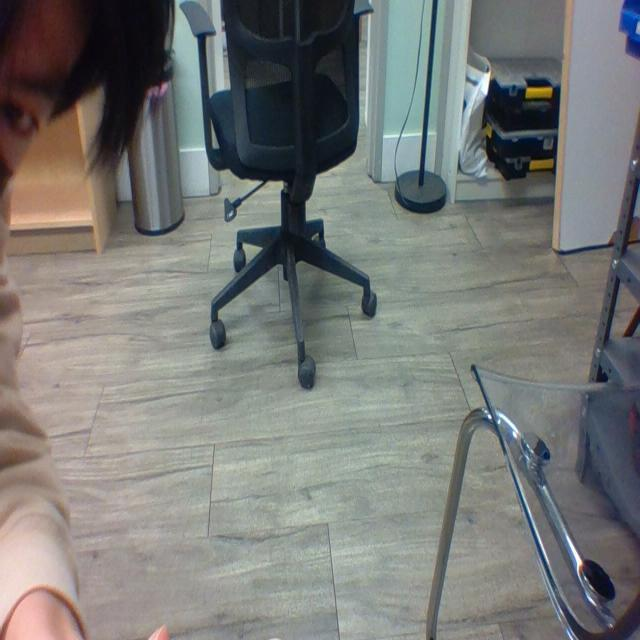chair: (197, 0, 374, 353)
